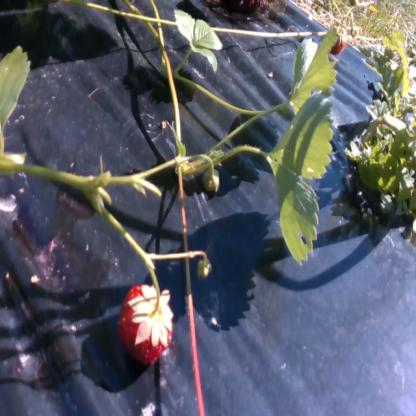ripe: (119, 282, 176, 365), (327, 30, 349, 58)
